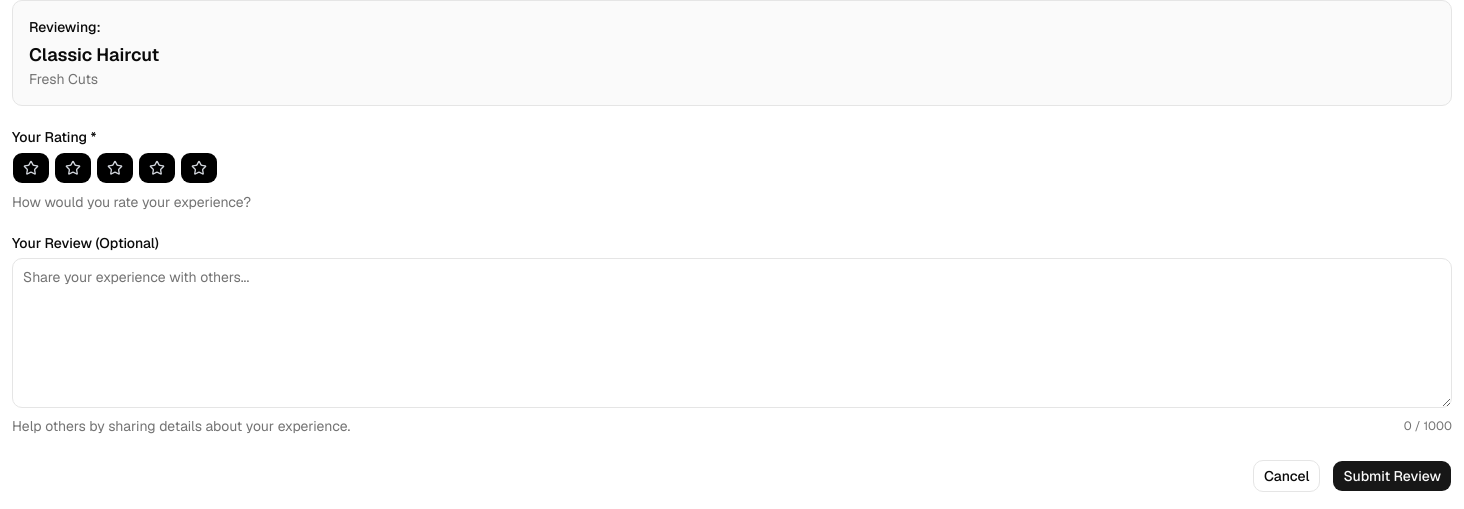
Scenario: ReviewForm — Create mode › updates character counter as user types
Step 1. Type "Hello" into the text box → (732, 333), box x1=12 y1=258 x2=1452 y2=408
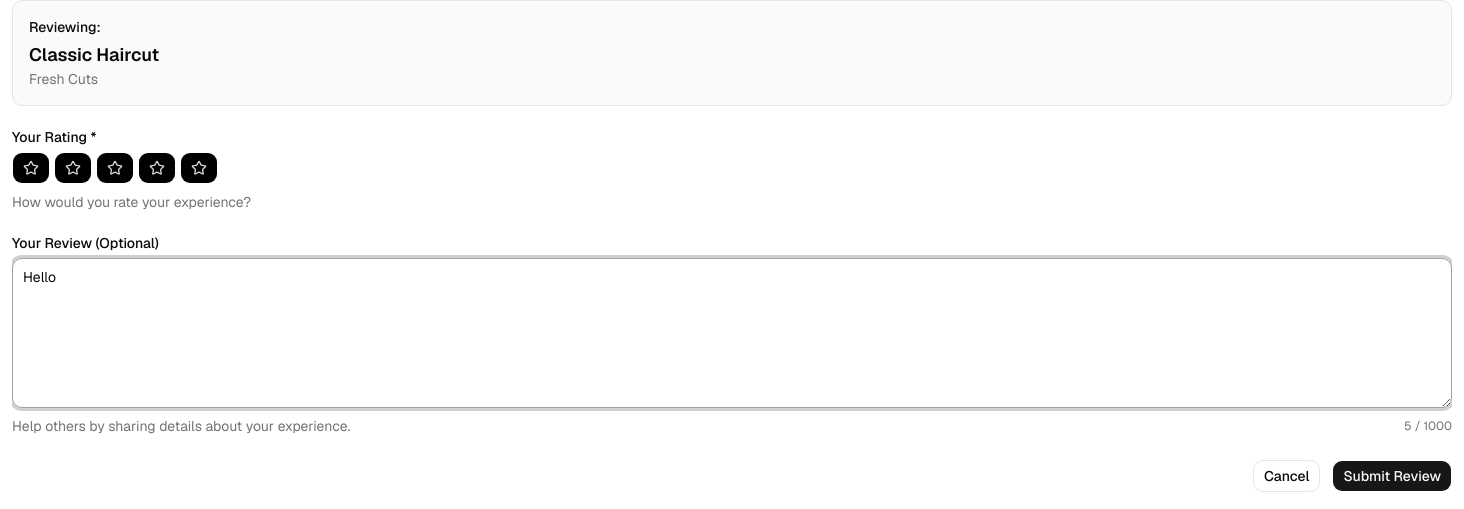
expect the text "5 / 1000" is shown: met, box x1=1404 y1=418 x2=1452 y2=434
